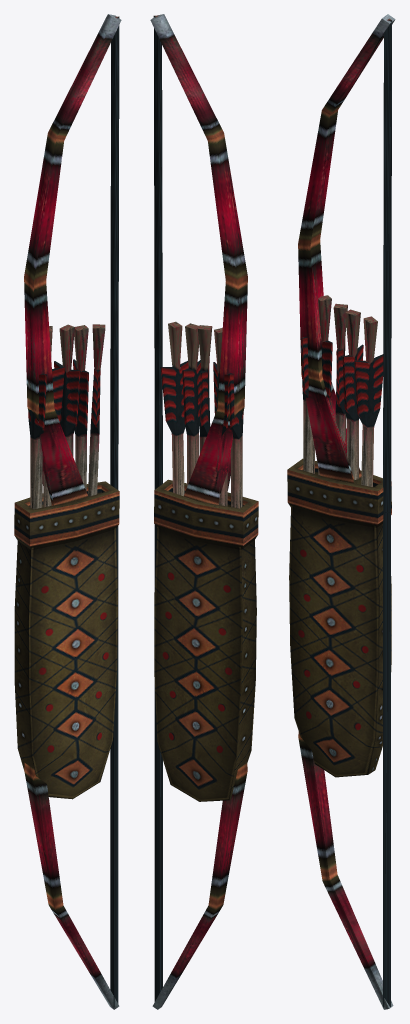
File: Long_bow_B.FBX
3 renders of one model, left to right at view 1: azimuth 30°, elevation 25°; view 2: azimuth 150°, elevation 25°; view 3: azimuth 330°, elevation 25°, orthographic.
Visible parts, largest first — view 1: Long_bow_B_Qiuver, Long_bow_B, Long_bow_B_Arrow_00, Long_bow_B_Arrow_01, Long_bow_B_Arrow_02, Long_bow_B_Arrow_03, Long_bow_B_Arrow_04; view 2: Long_bow_B_Qiuver, Long_bow_B, Long_bow_B_Arrow_02, Long_bow_B_Arrow_01, Long_bow_B_Arrow_03, Long_bow_B_Arrow_00, Long_bow_B_Arrow_04; view 3: Long_bow_B_Qiuver, Long_bow_B, Long_bow_B_Arrow_02, Long_bow_B_Arrow_01, Long_bow_B_Arrow_00, Long_bow_B_Arrow_03, Long_bow_B_Arrow_04.
Boxes of the visible parts, box(x1,y1,x2,y2) form: Long_bow_B_Qiuver: box(14, 481, 119, 799); Long_bow_B: box(24, 14, 121, 1009); Long_bow_B_Arrow_00: box(54, 324, 80, 456); Long_bow_B_Arrow_01: box(73, 325, 88, 490); Long_bow_B_Arrow_02: box(88, 324, 105, 496); Long_bow_B_Arrow_03: box(28, 330, 46, 509); Long_bow_B_Arrow_04: box(43, 326, 64, 507); Long_bow_B_Qiuver: box(154, 479, 258, 801); Long_bow_B: box(150, 14, 247, 1009); Long_bow_B_Arrow_02: box(160, 321, 188, 496); Long_bow_B_Arrow_01: box(182, 323, 201, 486); Long_bow_B_Arrow_03: box(228, 332, 243, 508); Long_bow_B_Arrow_00: box(198, 325, 212, 453); Long_bow_B_Arrow_04: box(213, 328, 229, 506); Long_bow_B_Qiuver: box(287, 458, 391, 777); Long_bow_B: box(298, 14, 395, 1009); Long_bow_B_Arrow_02: box(354, 316, 383, 486); Long_bow_B_Arrow_01: box(342, 309, 363, 479); Long_bow_B_Arrow_00: box(333, 303, 347, 442); Long_bow_B_Arrow_03: box(301, 337, 314, 473); Long_bow_B_Arrow_04: box(318, 295, 332, 475).
Size of the model in its own units: 18.58 by 181 by 6.84.
